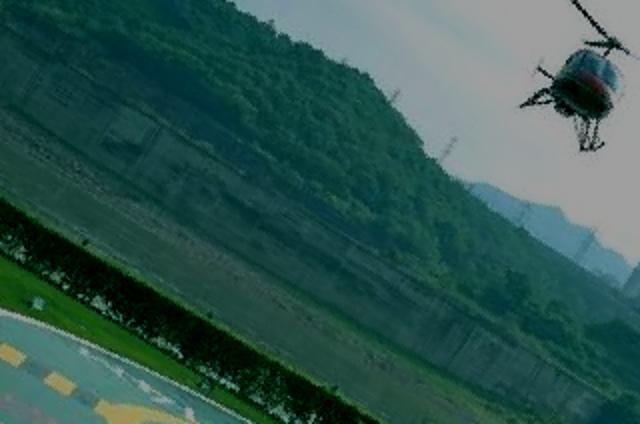Apron: (98, 379, 274, 424)
